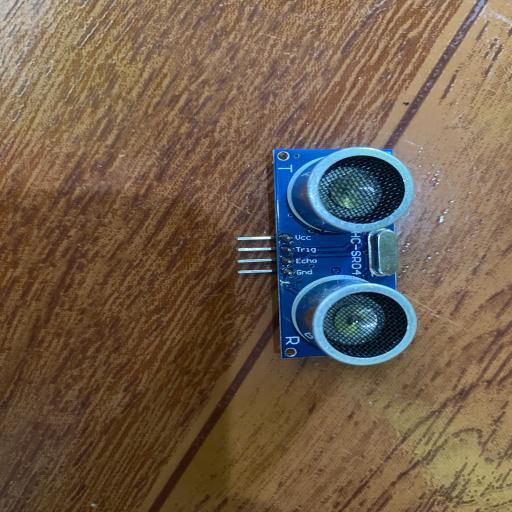Ultrasonic Sensor: (235, 145, 417, 366)
